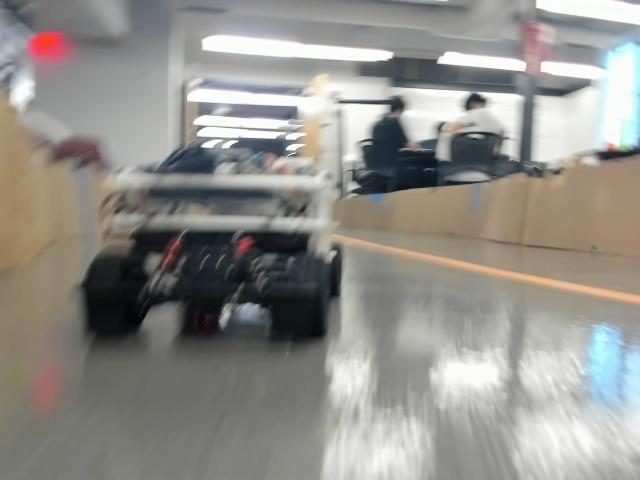Car: (80, 143, 343, 344)
